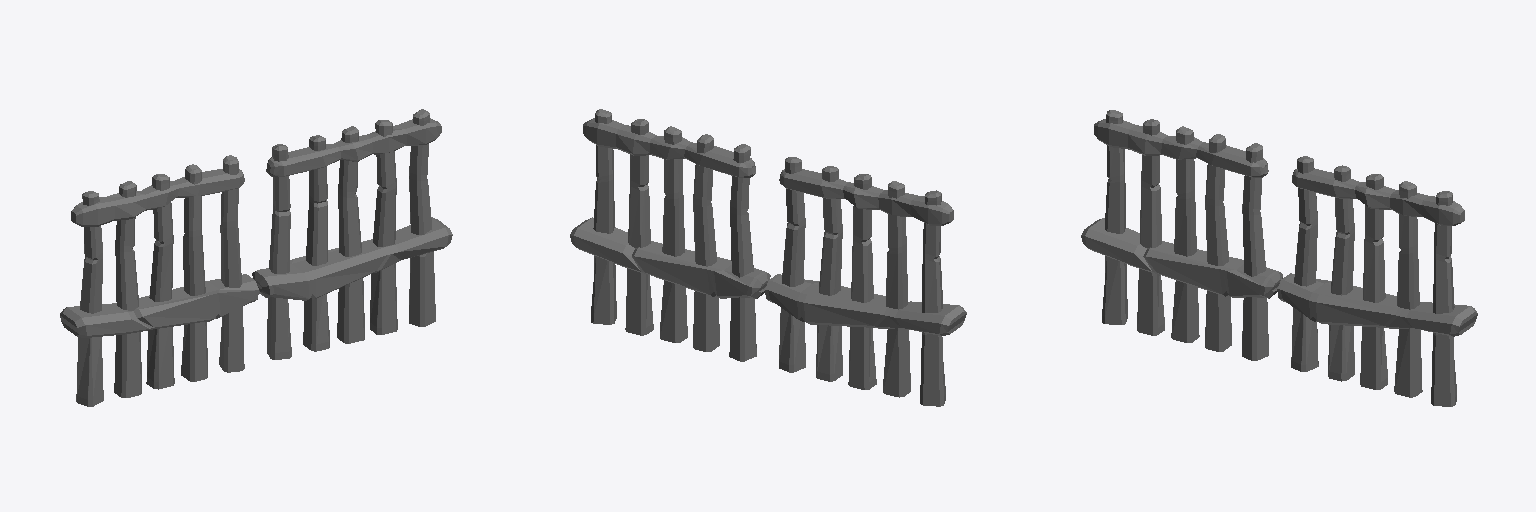
The model's file is Asset_WoodenFence.obj.
The picture shows the model from 3 angles: view 1: azimuth 30°, elevation 25°; view 2: azimuth 150°, elevation 25°; view 3: azimuth 330°, elevation 25°; orthographic projection.
Visible parts, largest first — view 1: Fence; view 2: Fence; view 3: Fence.
Boxes of the visible parts, <box> form: Fence: <box>60,109,452,406</box>; Fence: <box>570,109,966,406</box>; Fence: <box>1081,110,1477,406</box>.
Bounding box in the file's own units: 118 × 62.91 × 13.28.